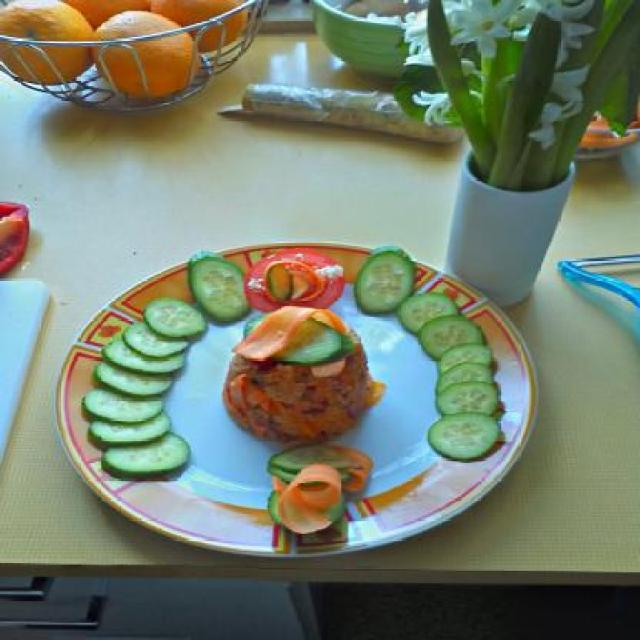Orange: (94, 2, 190, 92), (0, 0, 95, 85), (147, 2, 244, 41), (69, 0, 147, 18)
